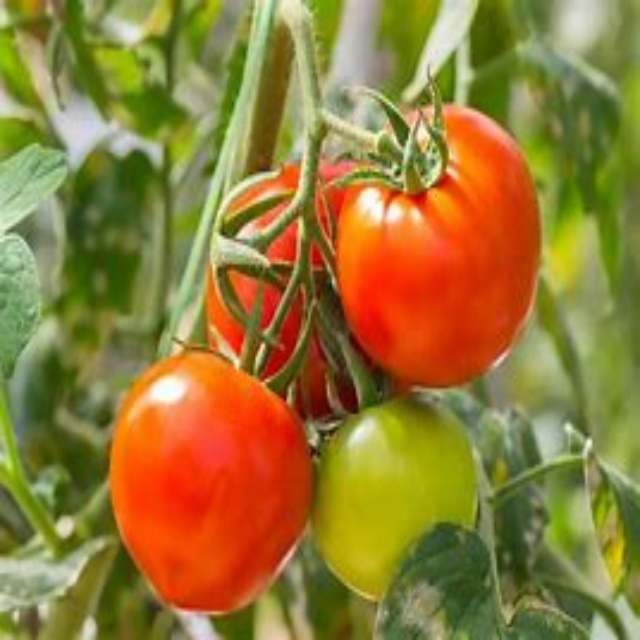tomato: (335, 96, 541, 381), (104, 362, 316, 614), (198, 168, 385, 430), (304, 395, 489, 599)
